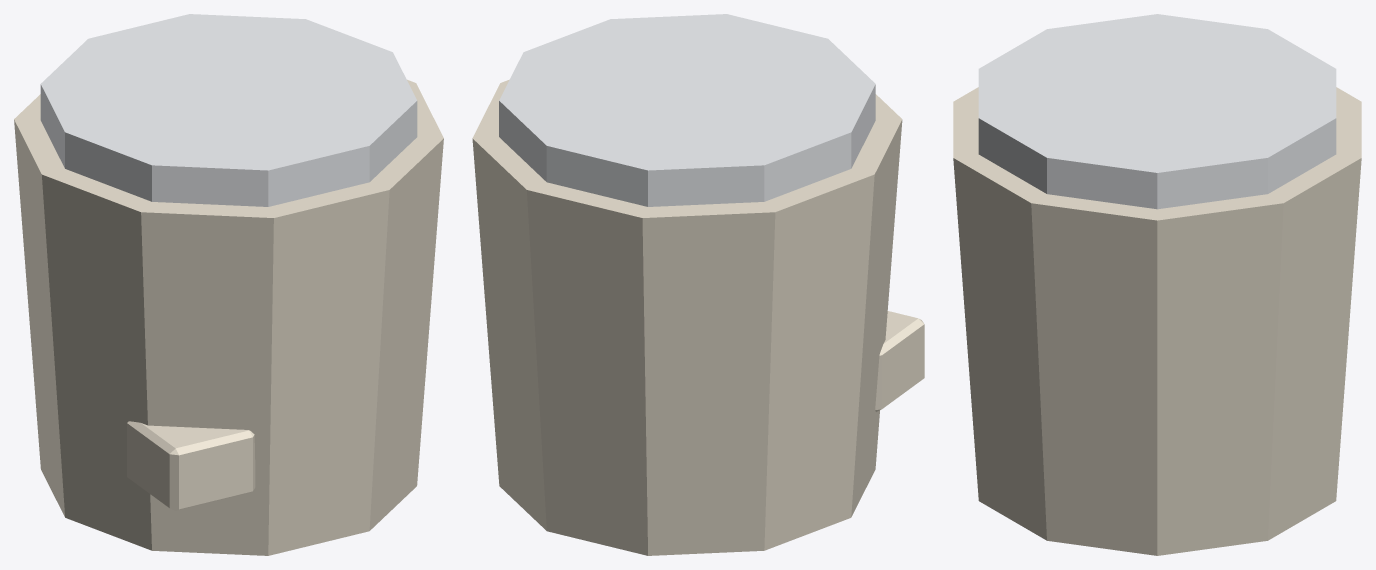
Rendered from b17_open_rain_umbrella.glb.
3 views of the same model, side by side, from view 1: azimuth 30°, elevation 25°; view 2: azimuth 150°, elevation 25°; view 3: azimuth 270°, elevation 25° (orthographic).
Parts seen in each view (by area): view 1: b17_open_rain_umbrella; view 2: b17_open_rain_umbrella; view 3: b17_open_rain_umbrella.
Boxes of the visible parts, x1,y1,x2,y2 form: b17_open_rain_umbrella: (14, 14, 443, 555); b17_open_rain_umbrella: (472, 14, 924, 555); b17_open_rain_umbrella: (953, 14, 1361, 555).
Bounding box in the file's own units: 1.06 × 1.04 × 1.01.
